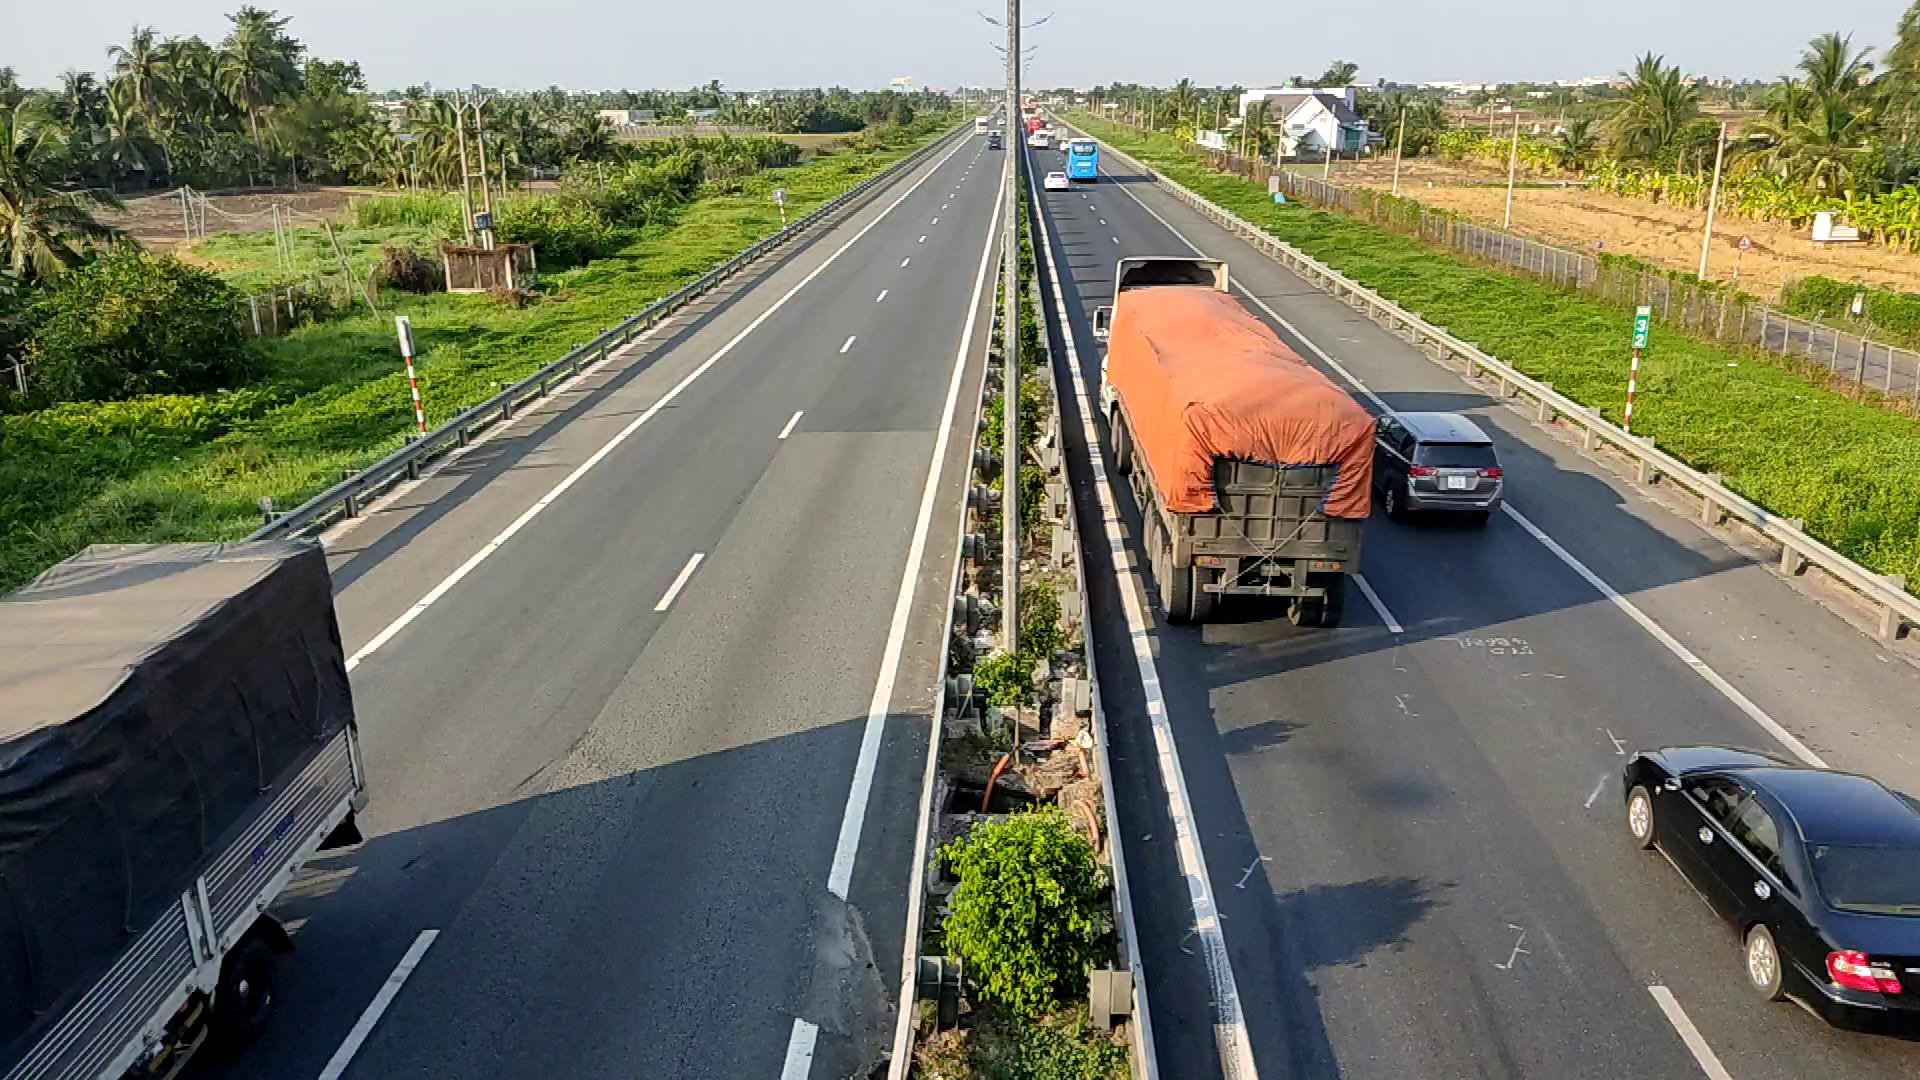car: (1621, 742, 1917, 1033), (1369, 407, 1505, 524)
truck: (1, 533, 371, 1064), (1095, 256, 1375, 626), (1065, 138, 1098, 179)
